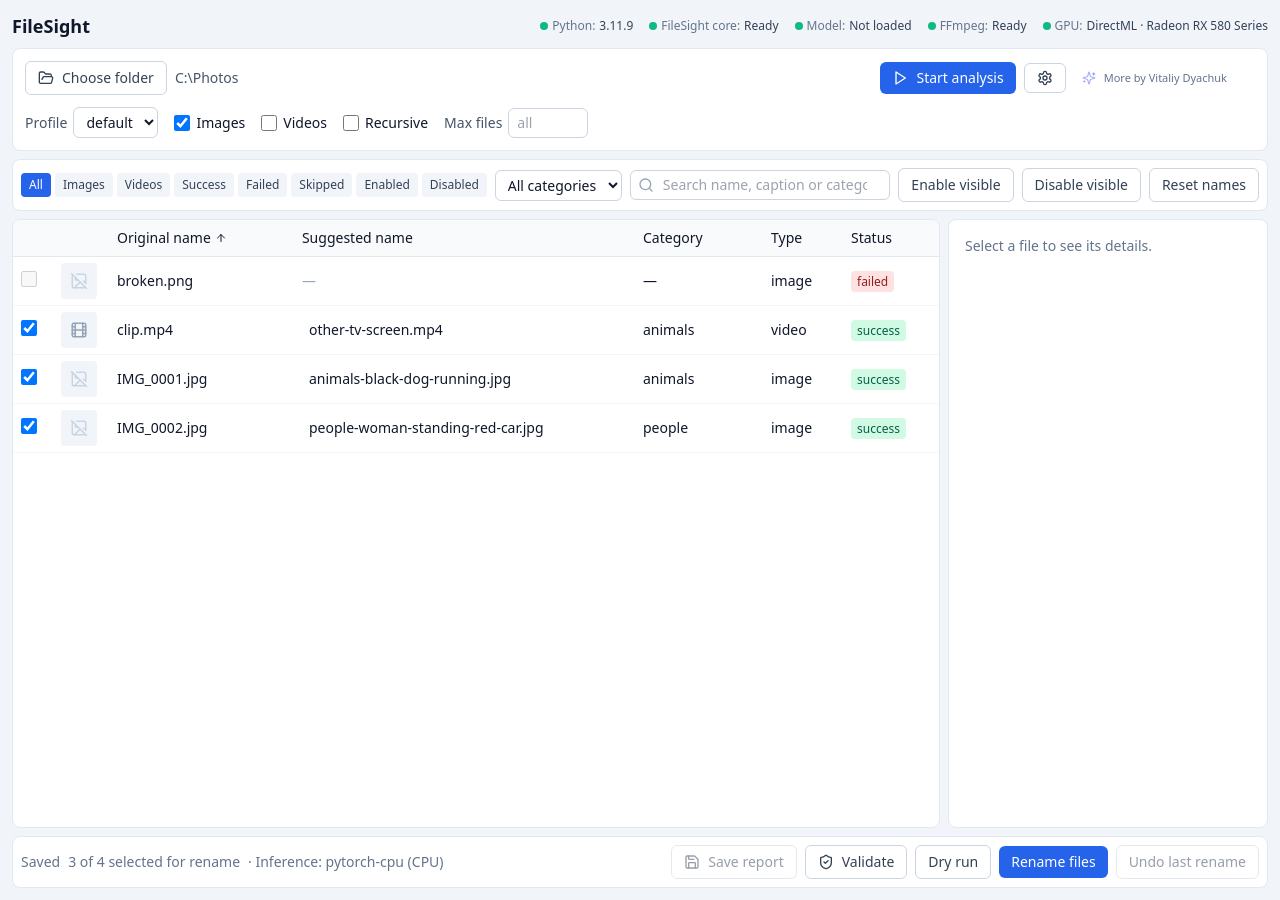
Test: results table › shows an inline error and blocks rename for an invalid name
The image size is (1280, 900).
Clear the field named "suggested name for IMG_0001.jpg": (464, 379) [302,366,627,392]
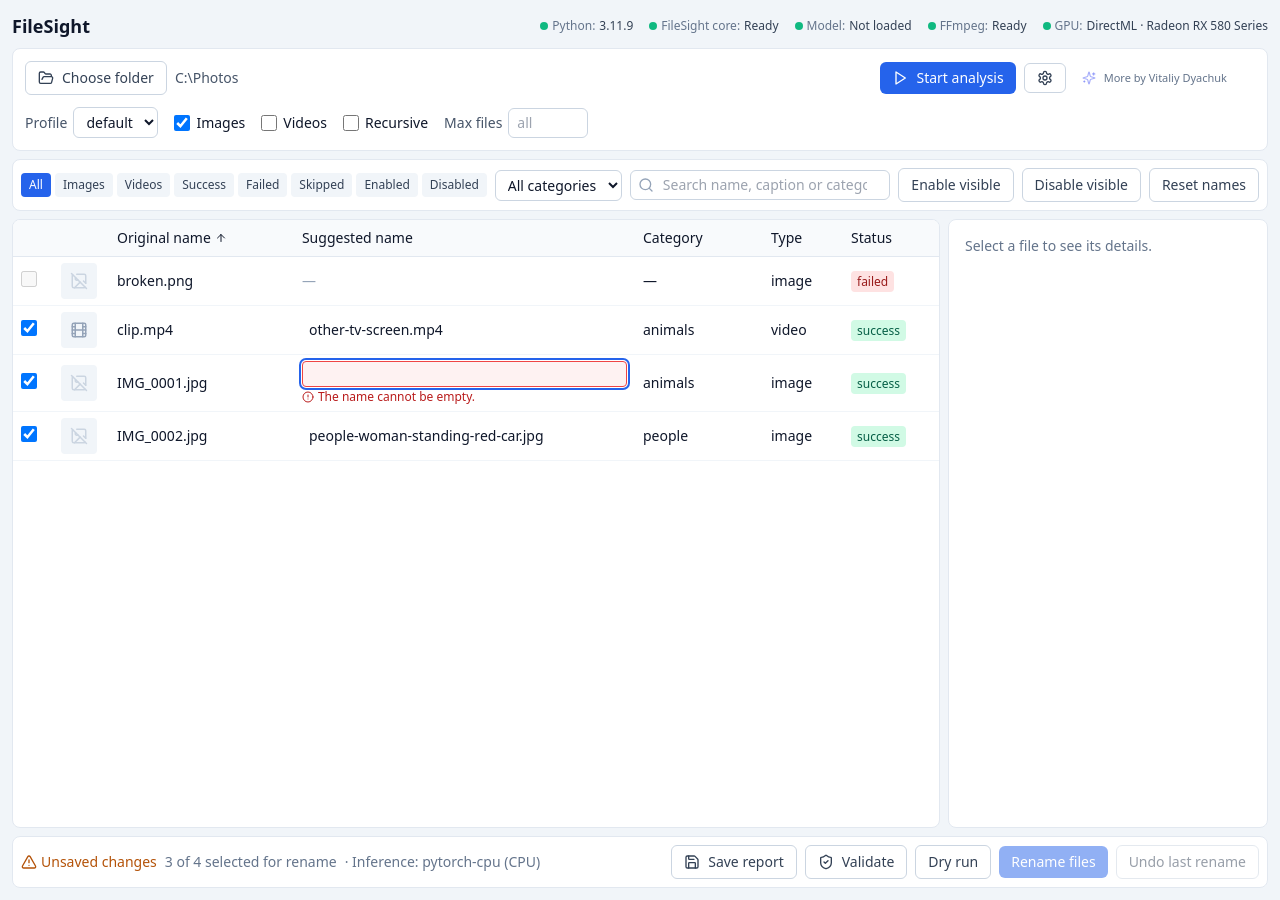
In the field named "suggested name for IMG_0001.jpg": (464, 374) [302,361,627,387], type "bad:name.jpg"
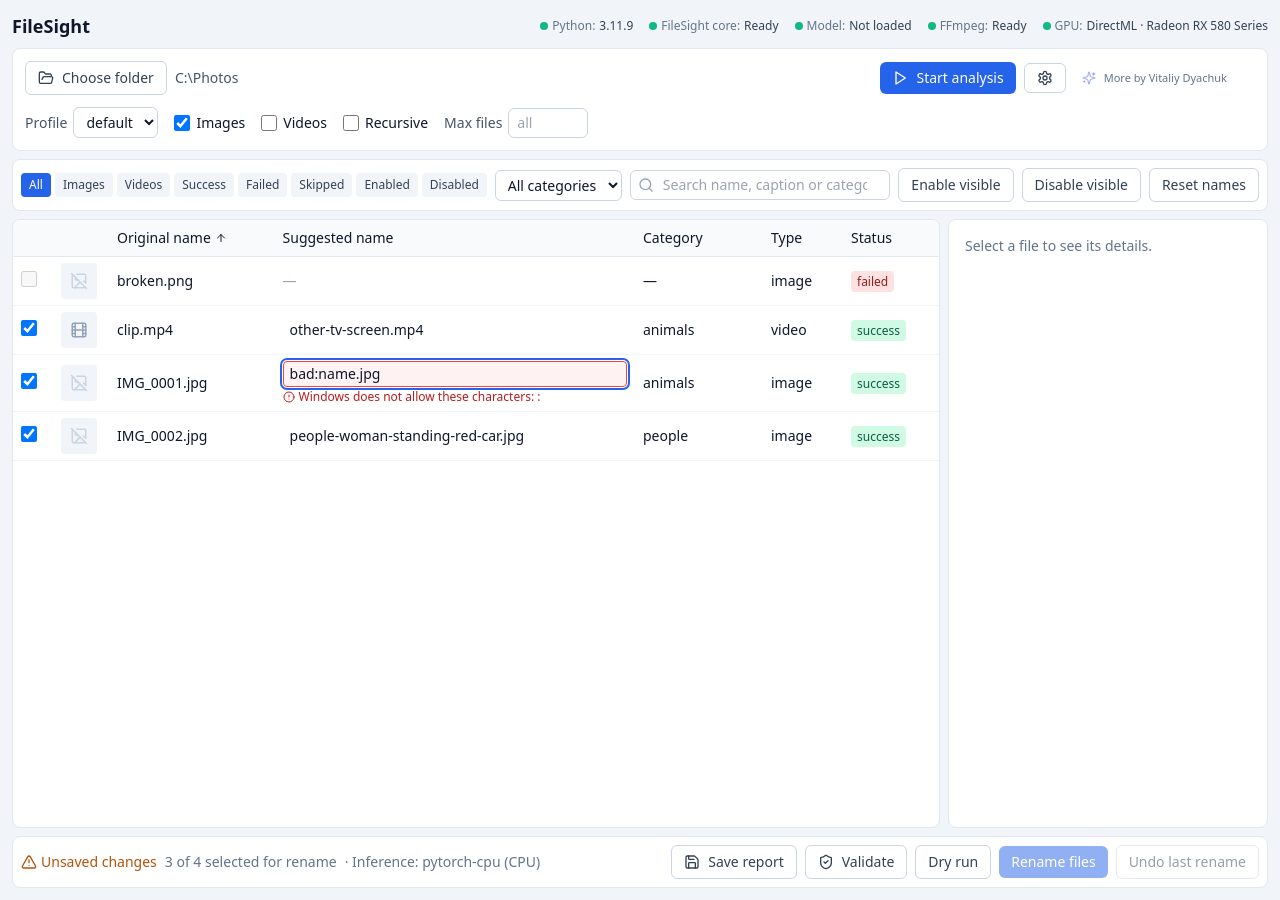
Now the button "Rename files" is disabled, box [999,846,1108,878]
Now the text "Windows does not allow these characters: :" is shown, box [282,388,540,405]
